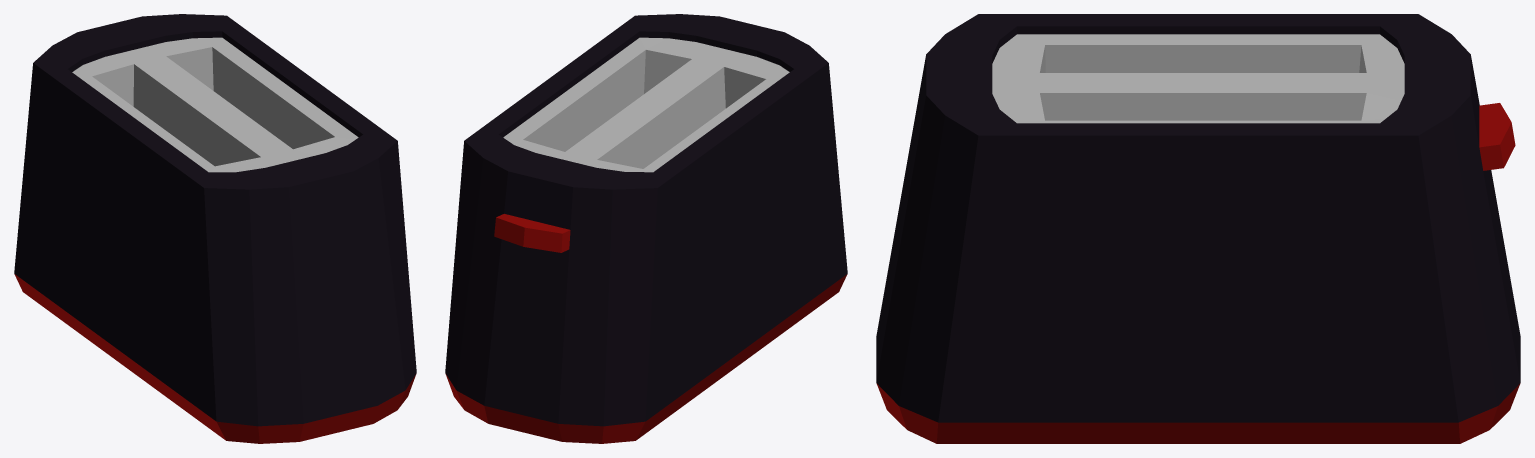
Rendered from toaster.fbx.
3 renders of one model, left to right at view 1: azimuth 30°, elevation 25°; view 2: azimuth 150°, elevation 25°; view 3: azimuth 270°, elevation 25°, orthographic. The views are drawn at different scales.
Visible parts, largest first — view 1: Toaster; view 2: Toaster; view 3: Toaster.
Boxes of the visible parts, x1,y1,x2,y2 form: Toaster: (14,14,416,443); Toaster: (445,14,847,443); Toaster: (876,14,1520,443).
Bounding box in the file's own units: 173 × 200 × 374.
